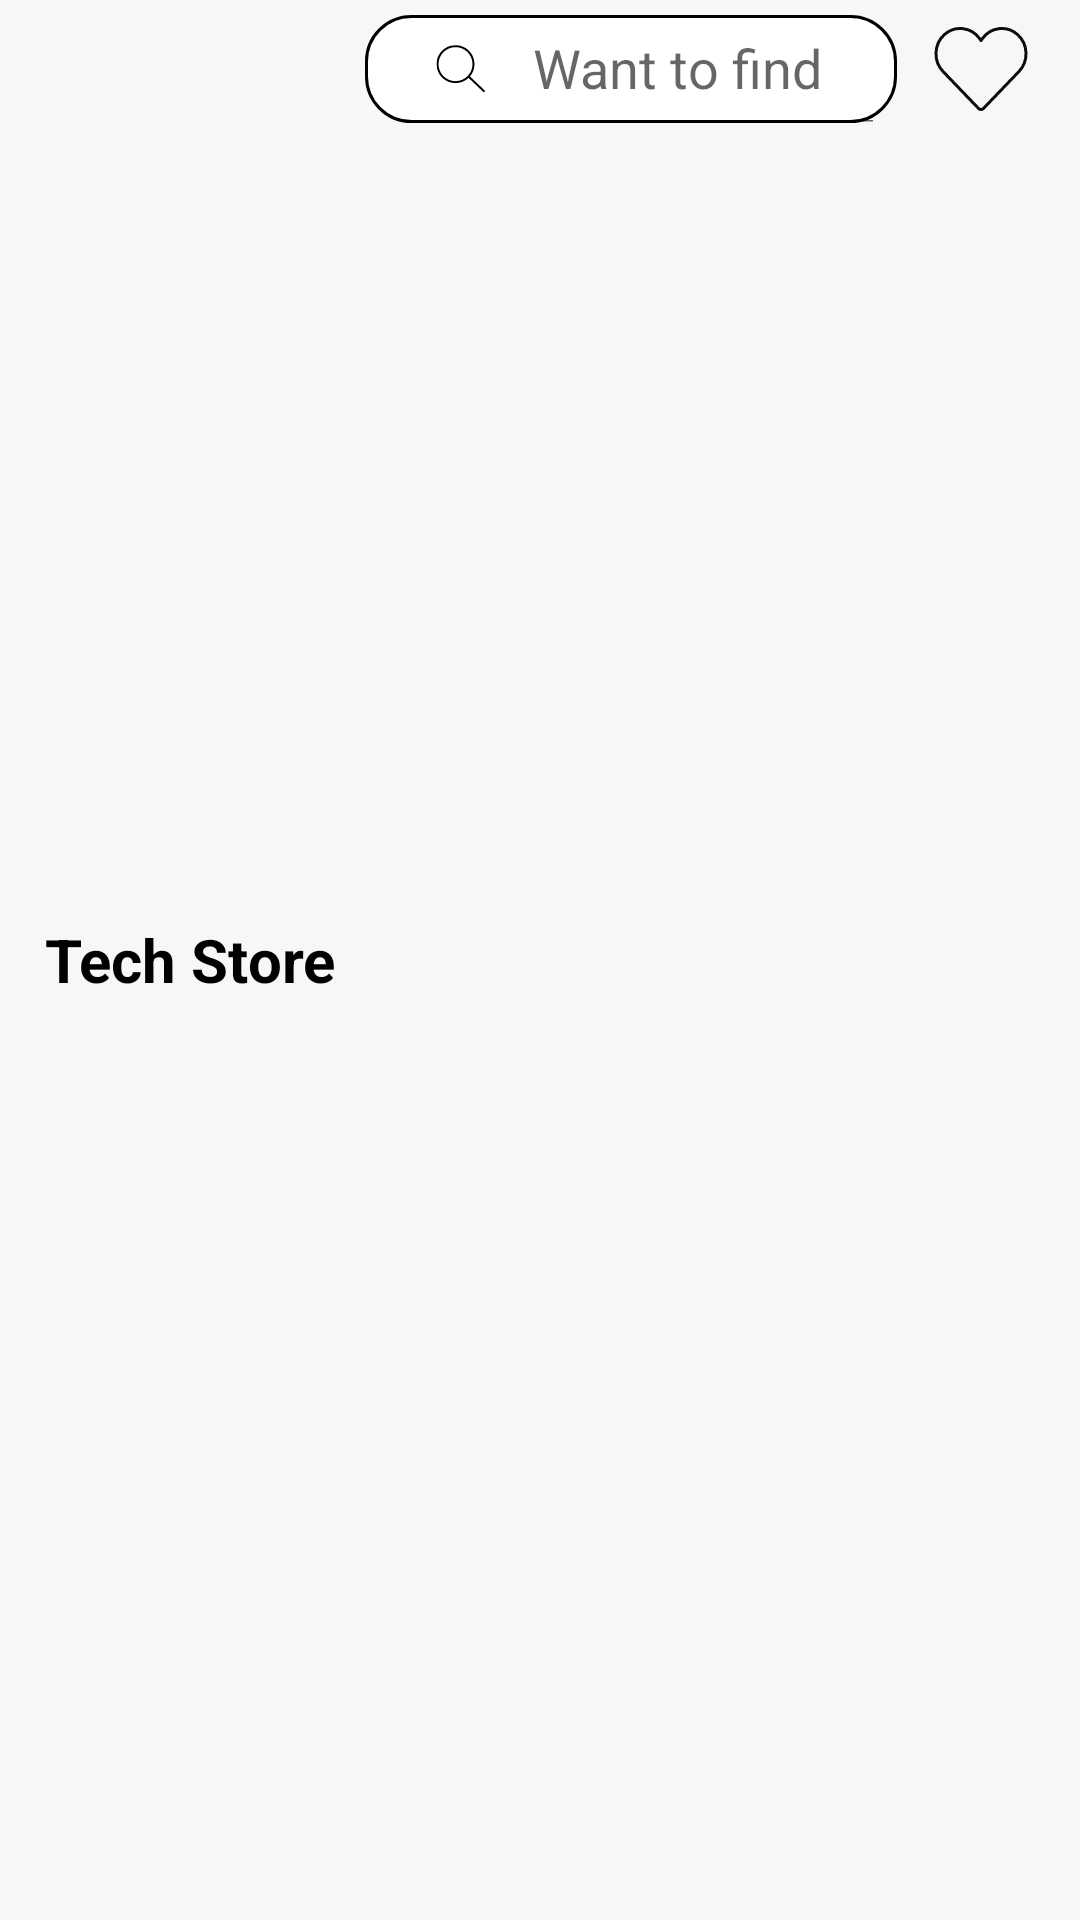

Point at icon controls on the screen. Image size 1080x1920, points as (x=x, y=y).
love: (x=981, y=69)
